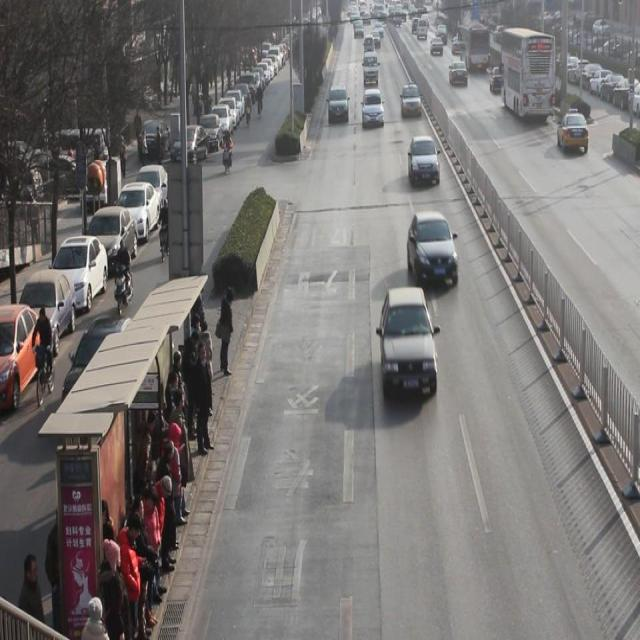car: (379, 286, 439, 396), (408, 210, 459, 289), (408, 134, 441, 188), (558, 110, 589, 154), (362, 88, 385, 128), (329, 84, 350, 122), (402, 83, 422, 118), (450, 60, 469, 86), (491, 65, 508, 94)
truck: (363, 51, 380, 86)
van: (499, 25, 552, 120)
